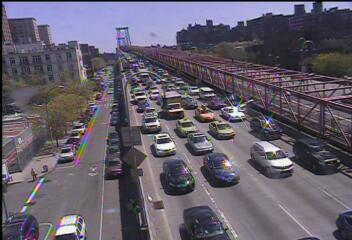neg: (163, 116, 210, 178), (113, 95, 152, 147), (205, 71, 234, 110), (259, 61, 287, 98), (78, 191, 104, 227), (14, 78, 37, 110), (54, 44, 77, 75), (259, 175, 280, 203), (147, 29, 163, 49), (114, 25, 129, 45), (42, 159, 55, 176)
pos: (24, 162, 39, 182)
